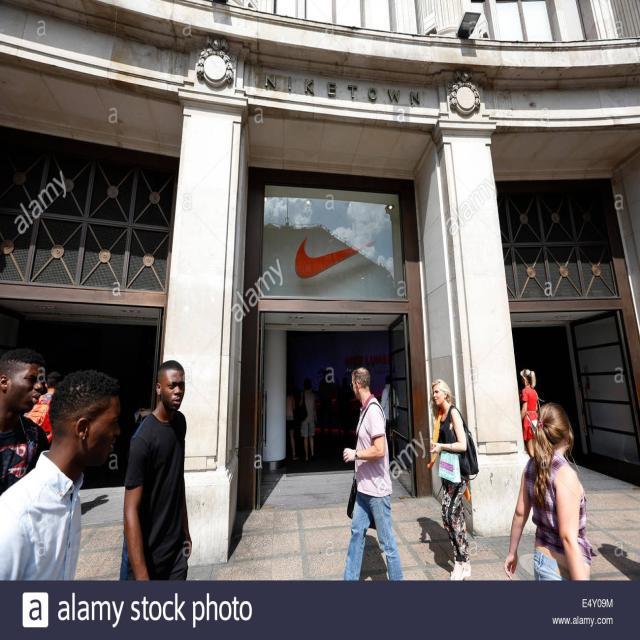body: (0, 369, 122, 581), (503, 401, 599, 580), (121, 358, 195, 584), (340, 366, 406, 581), (276, 364, 411, 468), (426, 377, 479, 582), (0, 344, 52, 498), (600, 359, 638, 476), (414, 507, 467, 576), (24, 369, 60, 449), (345, 523, 391, 582), (597, 538, 640, 588), (379, 372, 400, 465), (296, 375, 318, 462), (519, 367, 539, 458), (72, 487, 115, 521), (285, 384, 300, 461)
